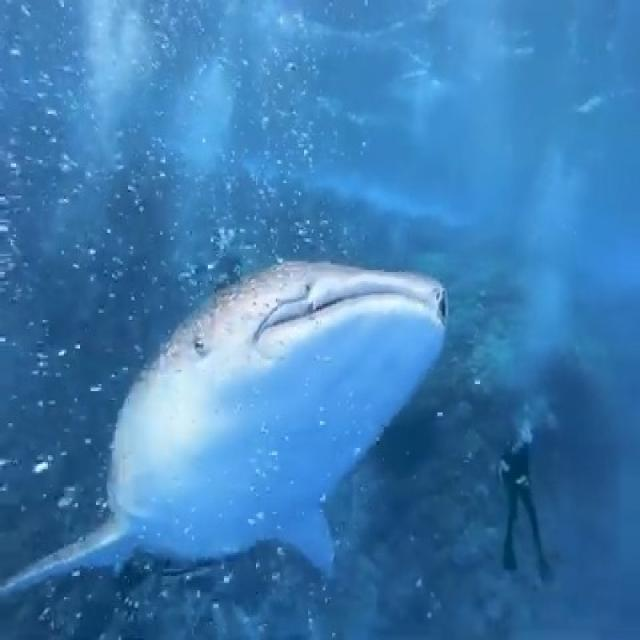Whale Shark -Endangered-: (6, 253, 444, 595)
